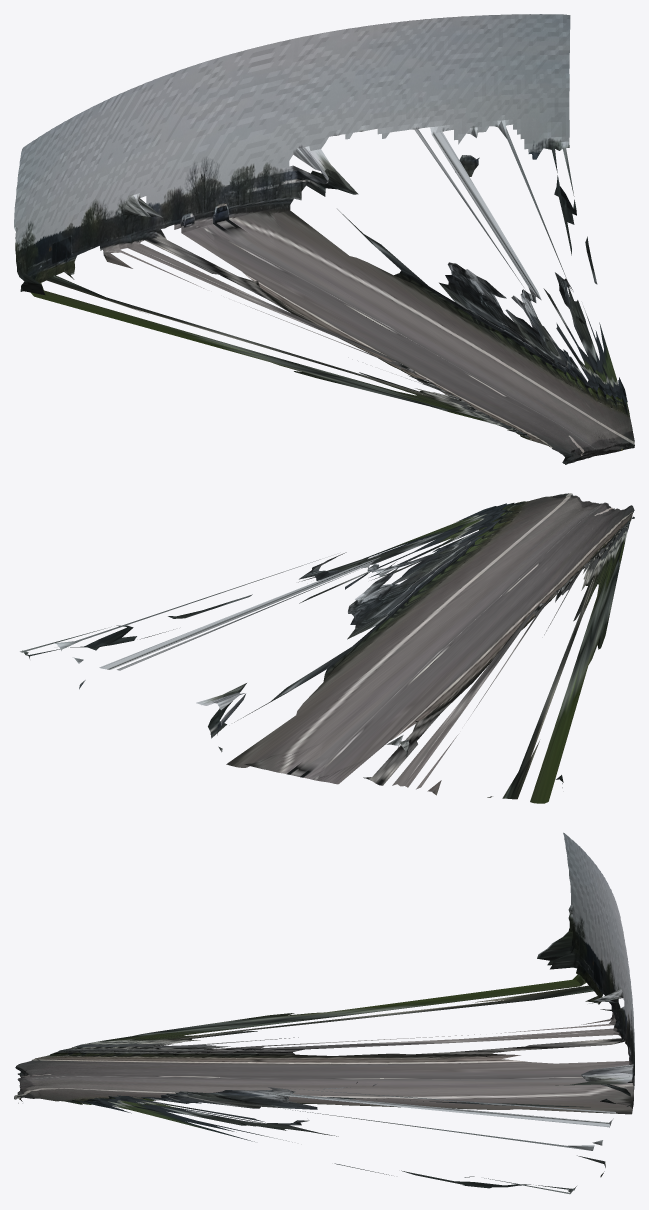
3 renders of one model, top to bottom at view 1: azimuth 30°, elevation 25°; view 2: azimuth 150°, elevation 25°; view 3: azimuth 270°, elevation 25°, orthographic. The views are drawn at different scales.
Parts seen in each view (by area): view 1: defaultobject; view 2: defaultobject; view 3: defaultobject.
Boxes of the visible parts, <box> form: defaultobject: <box>14,14,634,464</box>; defaultobject: <box>20,493,634,803</box>; defaultobject: <box>14,832,634,1194</box>.
Bounding box in the file's own units: 41.12 × 12.47 × 44.35.
1 material, 1 textured.
